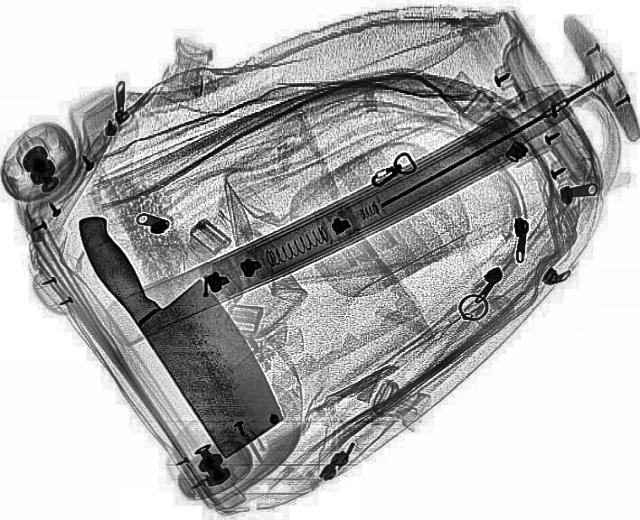Knife: (63, 190, 305, 464)
